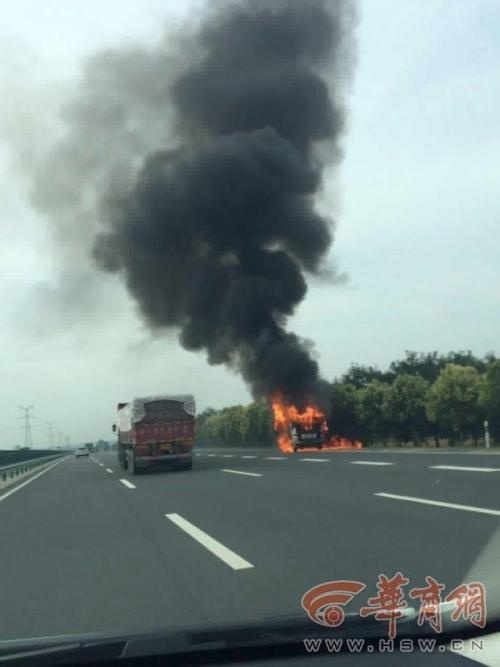fire: (268, 394, 365, 454)
